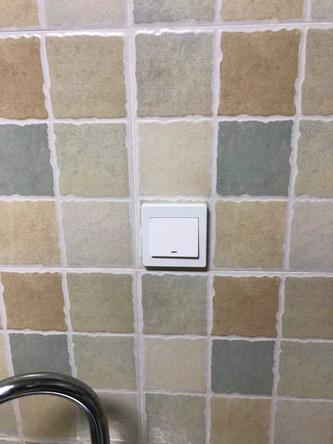switch: (150, 211, 207, 262)
